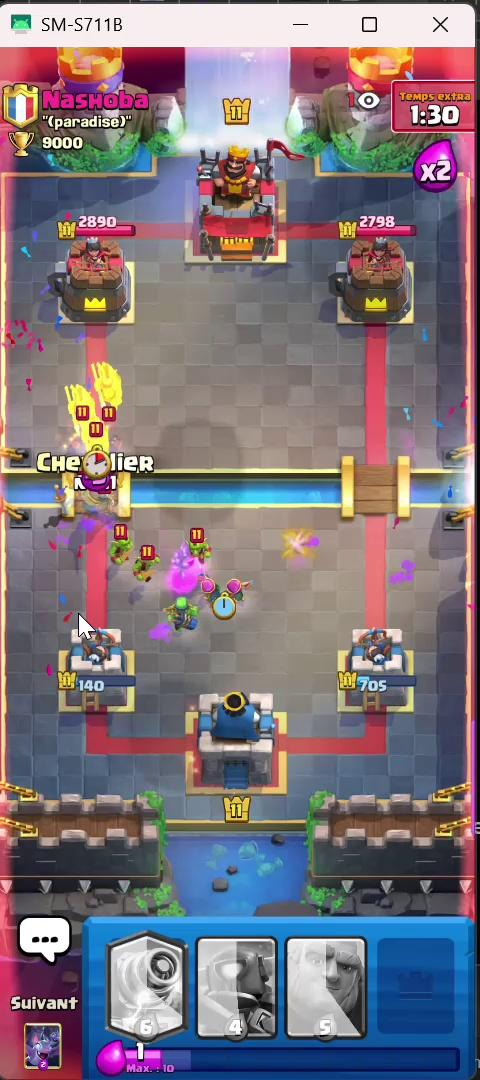archere: (197, 567, 211, 625), (221, 587, 259, 606)
gobelin: (177, 530, 234, 571), (99, 519, 143, 569), (128, 540, 165, 568)
gobelin_lances: (47, 379, 99, 433), (163, 581, 201, 632), (73, 431, 129, 464), (89, 376, 127, 413)
